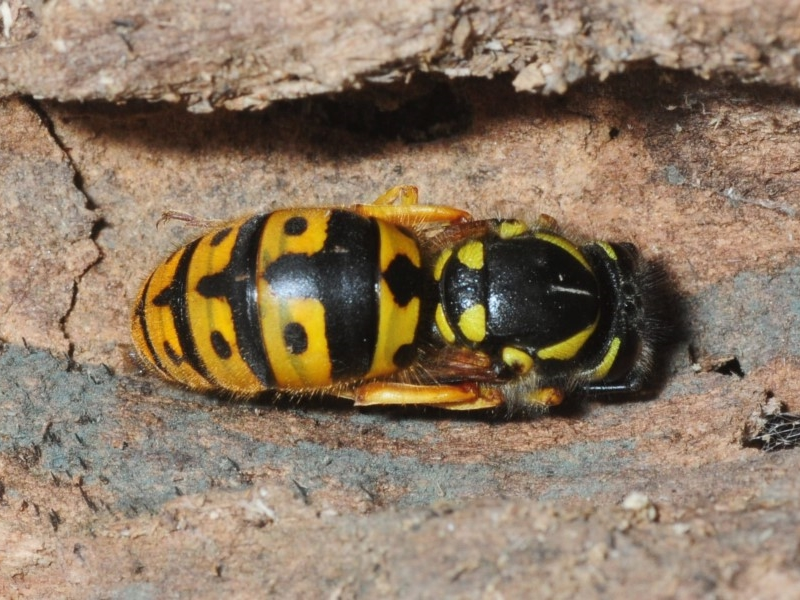chax: (105, 162, 721, 442)
